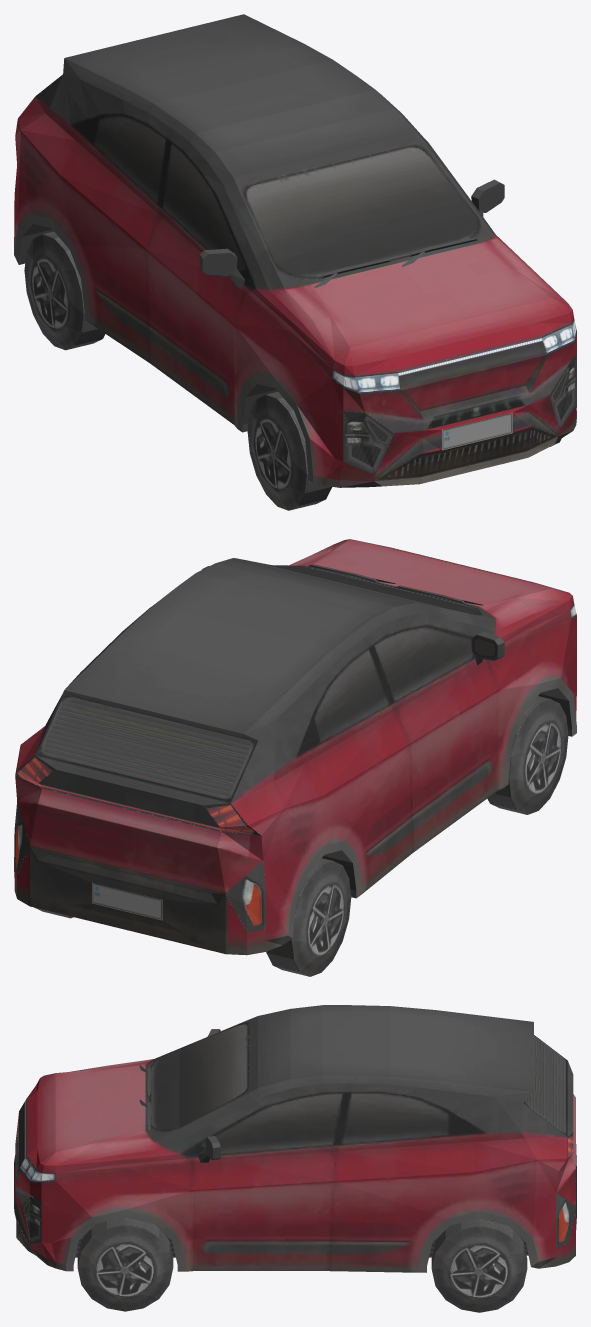
Rendered from nexon.glb.
3 renders of one model, top to bottom at view 1: azimuth 30°, elevation 25°; view 2: azimuth 150°, elevation 25°; view 3: azimuth 270°, elevation 25°, orthographic. The views are drawn at different scales.
Size of the model in its own units: 2.04 by 1.77 by 4.1.
3 materials, 3 textured.
